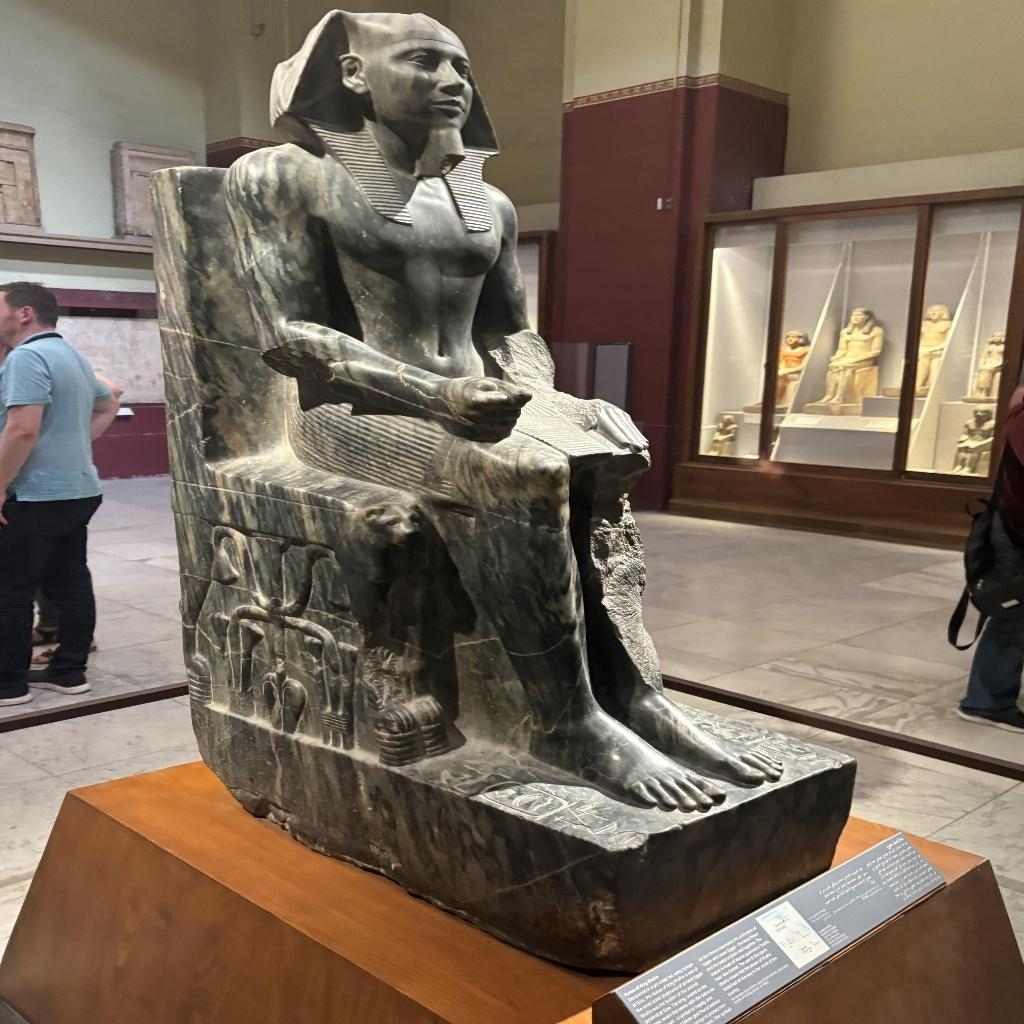Statue of Khafre: (214, 9, 791, 819)
